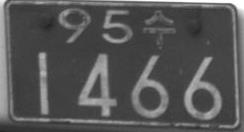1: (25, 52, 60, 115)
4: (78, 53, 117, 116)
5: (101, 9, 133, 44)
6: (182, 57, 223, 120), (130, 55, 170, 119)
9: (57, 6, 91, 43)
수: (143, 9, 176, 50)
